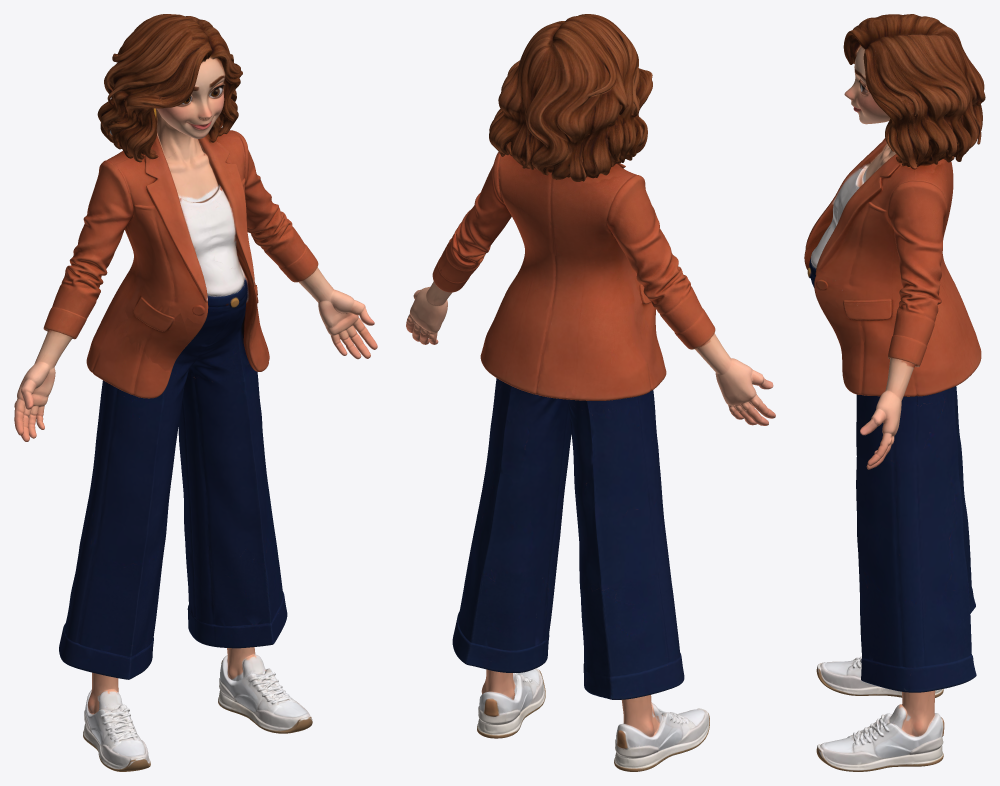
Rendered from Mother_Pregnant.glb.
3 renders of one model, left to right at view 1: azimuth 30°, elevation 25°; view 2: azimuth 150°, elevation 25°; view 3: azimuth 270°, elevation 25°, orthographic.
Visible parts, largest first — view 1: woman; view 2: woman; view 3: woman.
Boxes of the visible parts, x1,y1,x2,y2 form: woman: (14, 14, 377, 771); woman: (406, 14, 775, 771); woman: (804, 14, 985, 771).
Bounding box in the file's own units: 0.9055 × 1.7 × 0.3943.
1 material, 1 textured.
